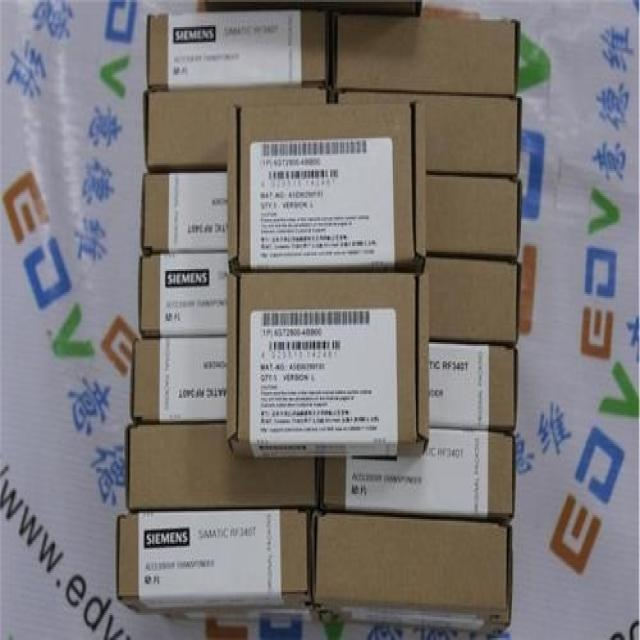box: (227, 104, 430, 456), (312, 511, 512, 637), (116, 510, 320, 624), (322, 430, 514, 526), (124, 424, 318, 509), (335, 87, 520, 175), (146, 89, 329, 173), (336, 15, 517, 97), (146, 13, 332, 89), (130, 338, 227, 422), (429, 338, 517, 430), (428, 256, 519, 343), (425, 175, 521, 254), (139, 252, 227, 335), (140, 175, 227, 254)
